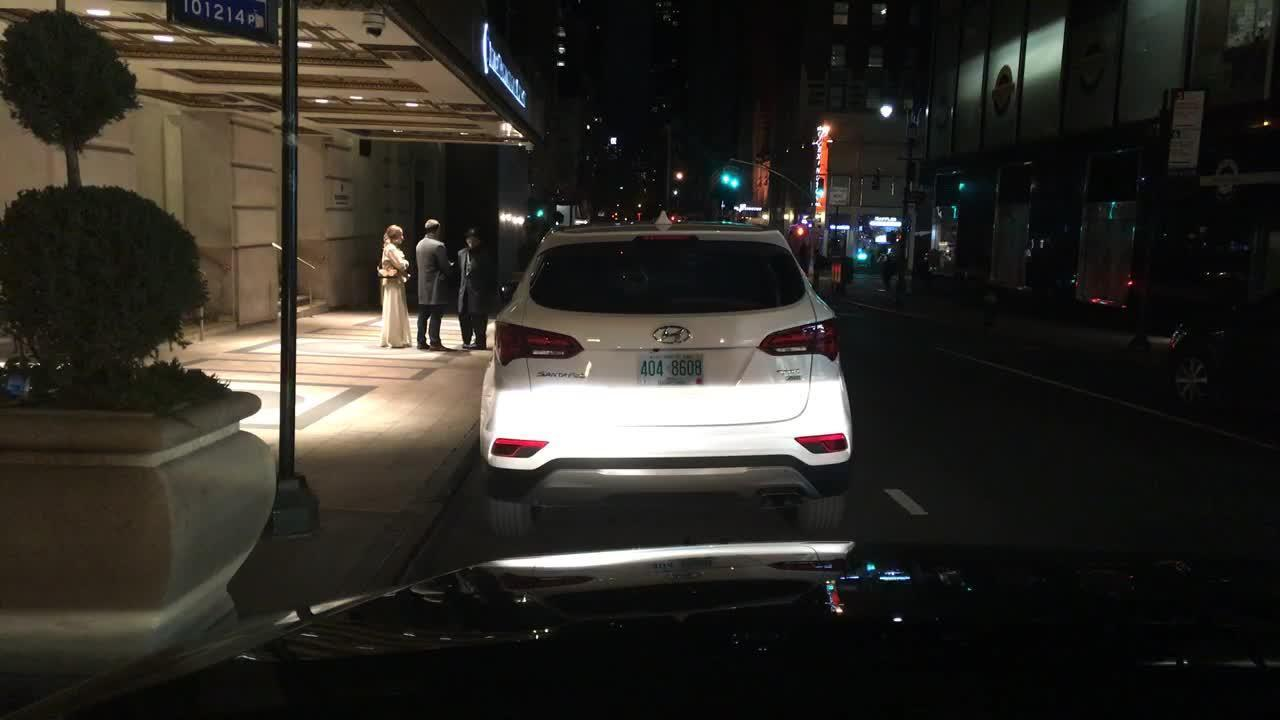Hyundai: (645, 315, 702, 350)
